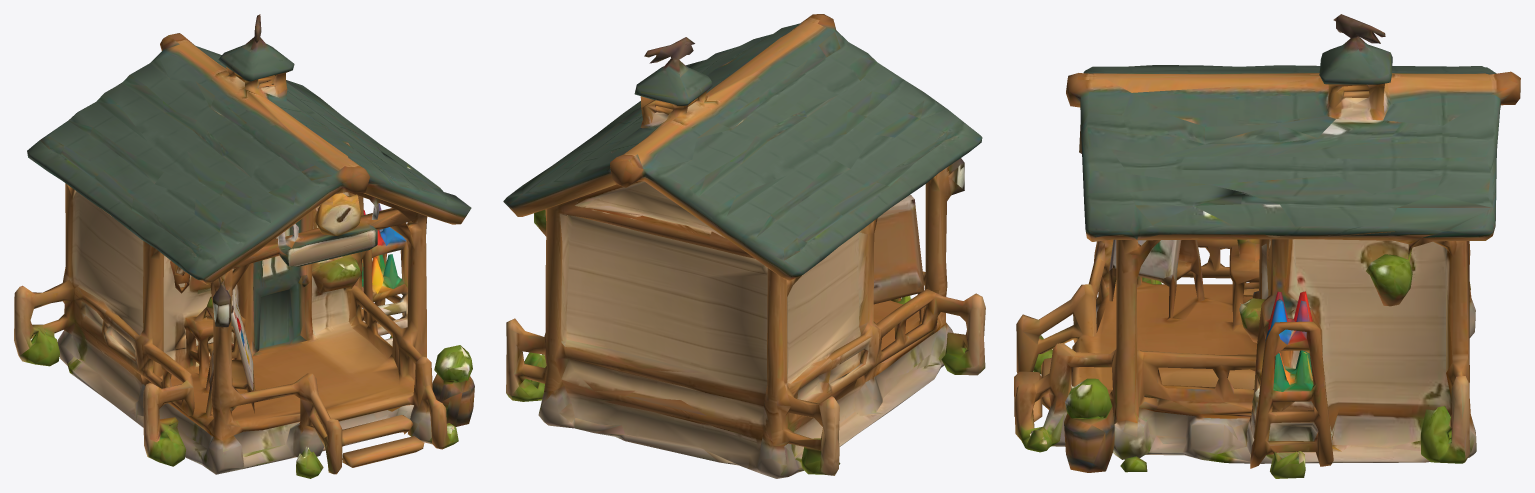
3 renders of one model, left to right at view 1: azimuth 30°, elevation 25°; view 2: azimuth 150°, elevation 25°; view 3: azimuth 270°, elevation 25°, orthographic. The views are drawn at different scales.
Parts seen in each view (by area): view 1: tripo_node_1cca6c35-2dfd-486a-9e67-672e71cc48fc; view 2: tripo_node_1cca6c35-2dfd-486a-9e67-672e71cc48fc; view 3: tripo_node_1cca6c35-2dfd-486a-9e67-672e71cc48fc.
Part boxes in pixels (x1,y1,x2,y2): tripo_node_1cca6c35-2dfd-486a-9e67-672e71cc48fc: [14, 14, 474, 478]; tripo_node_1cca6c35-2dfd-486a-9e67-672e71cc48fc: [503, 14, 985, 478]; tripo_node_1cca6c35-2dfd-486a-9e67-672e71cc48fc: [1014, 14, 1520, 478].
Bounding box in the file's own units: 3.87 × 3.8 × 4.36.
1 material, 1 textured.
